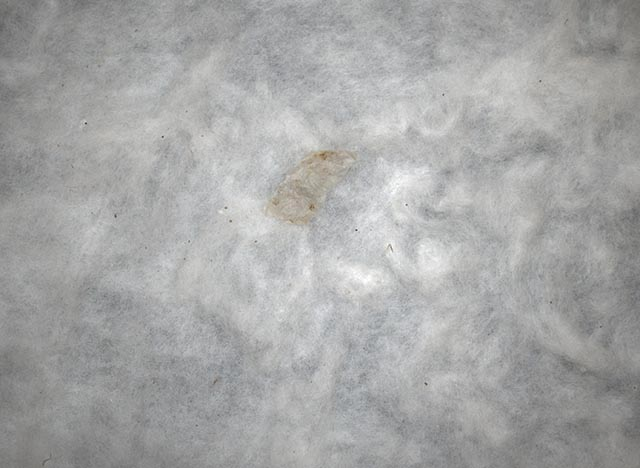plastic film: (263, 149, 358, 227)
